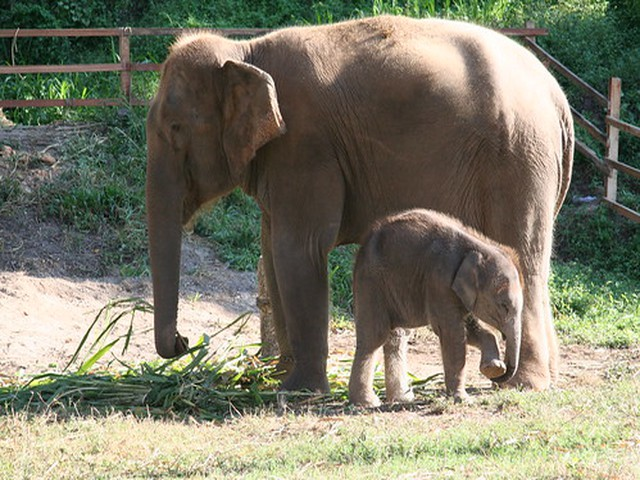Elephant: (144, 10, 576, 405)
